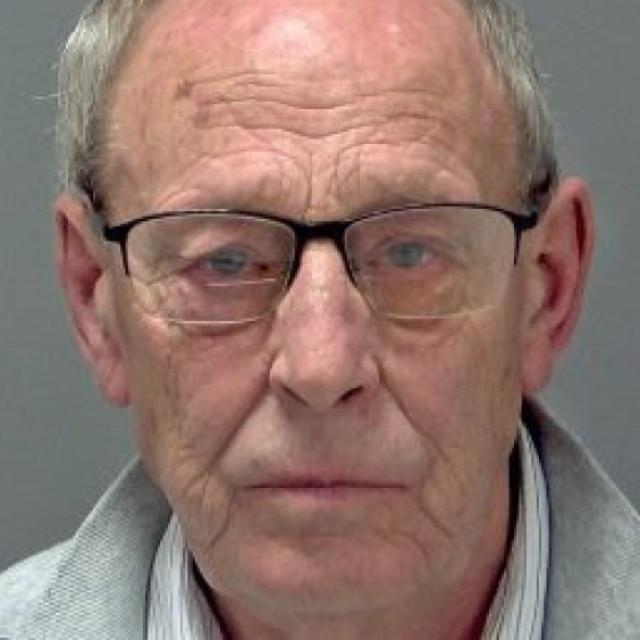Depress: (94, 18, 528, 621)
